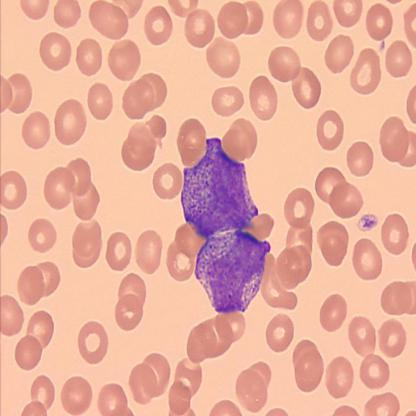Myelocyte: (181, 134, 266, 232), (194, 237, 270, 308)
